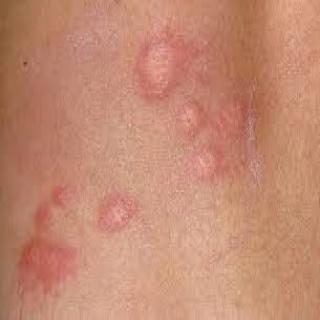urticaria: (7, 177, 103, 311), (172, 101, 250, 174), (131, 33, 193, 94), (92, 180, 152, 237)
